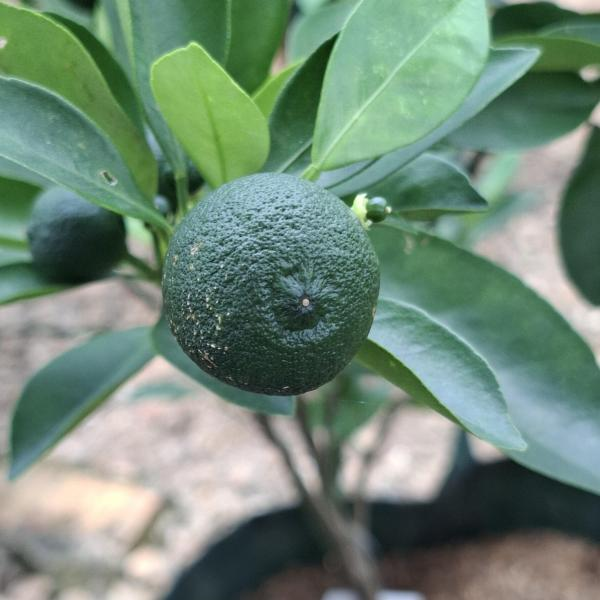Scab: (157, 159, 388, 417)
